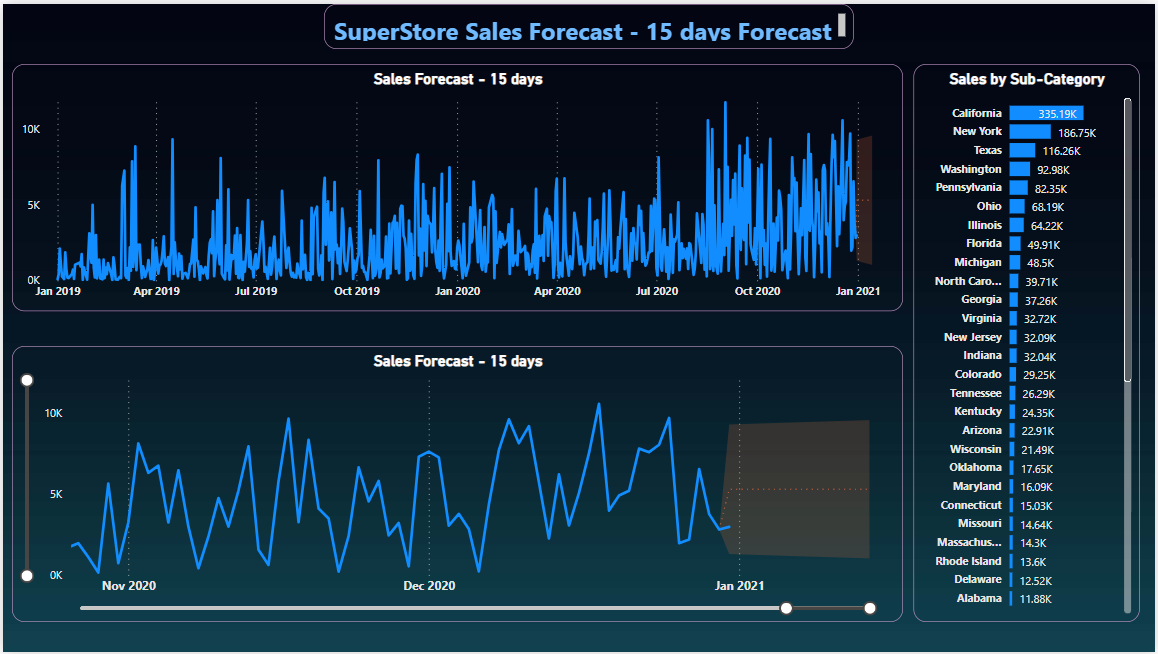

This screenshot's page, from the dashboard's own definition file:
{"tool":"powerbi","page":{"name":"Page 2","canvas":[1280,720],"ordinal":1},"visuals":[{"type":"lineChart","title":"Sales Forecast - 15 days","fields":{"Y":["Sum(SuperStore_Sales_Dataset.Sales)"],"Category":["SuperStore_Sales_Dataset.Order Date"]},"box":[9.5,66.8,990.2,275],"z":0},{"type":"lineChart","title":"Sales Forecast - 15 days","fields":{"Y":["Sum(SuperStore_Sales_Dataset.Sales)"],"Category":["SuperStore_Sales_Dataset.Order Date"]},"box":[9.5,379.9,990.2,306.8],"z":1000},{"type":"clusteredBarChart","title":"Sales by Sub-Category","fields":{"Y":["Sum(SuperStore_Sales_Dataset.Sales)"],"Category":["SuperStore_Sales_Dataset.State"]},"box":[1010.9,66.8,251.1,619.9],"z":2000},{"type":"textbox","box":[356.7,0,588.3,50],"z":3000}]}

Visuals, with their boxes in screenshot pixels (x1, y1, x2, y2), scaled from the page's 1280x720 canvas onto the 1158x654 screenshot:
"Sales Forecast - 15 days" lineChart: detection(9, 61, 904, 310)
"Sales Forecast - 15 days" lineChart: detection(9, 345, 904, 624)
"Sales by Sub-Category" clusteredBarChart: detection(915, 61, 1142, 624)
textbox: detection(323, 0, 855, 45)
